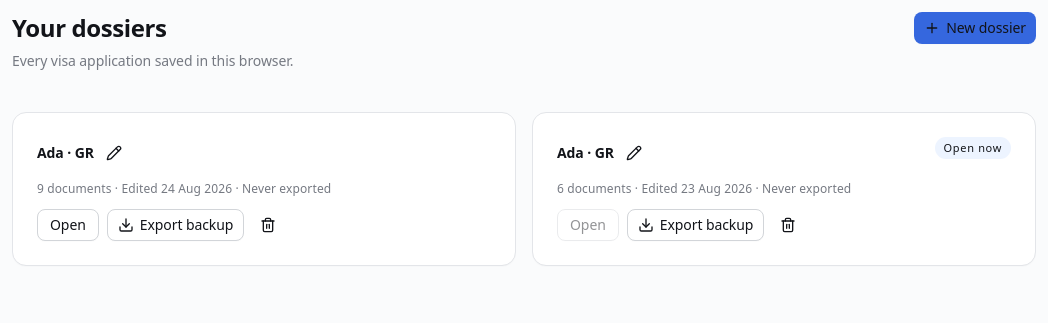
Test: renaming a dossier › saves the typed name and shows it instead of the derived one
The width and height of the screenshot is (1048, 323).
Click the 1st button named "Rename " at (114, 153), box x1=98 y1=137 x2=130 y2=169
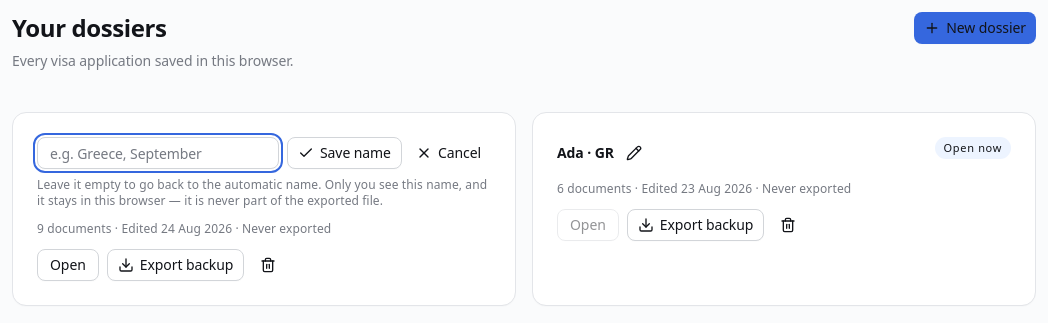
Type "Greece, September" into the field named "Dossier name" at (158, 153), box x1=37 y1=137 x2=279 y2=169
Then press Enter
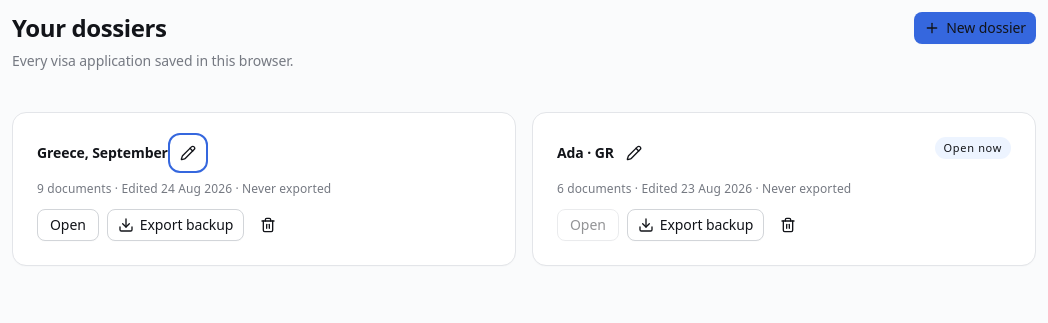
Check: the heading "Greece, September" is shown, box x1=37 y1=142 x2=168 y2=164
